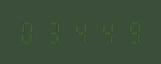four: (68, 20, 92, 44), (93, 20, 117, 44)
nine: (118, 20, 142, 44)
three: (43, 20, 67, 44)
zero: (18, 20, 42, 44)
